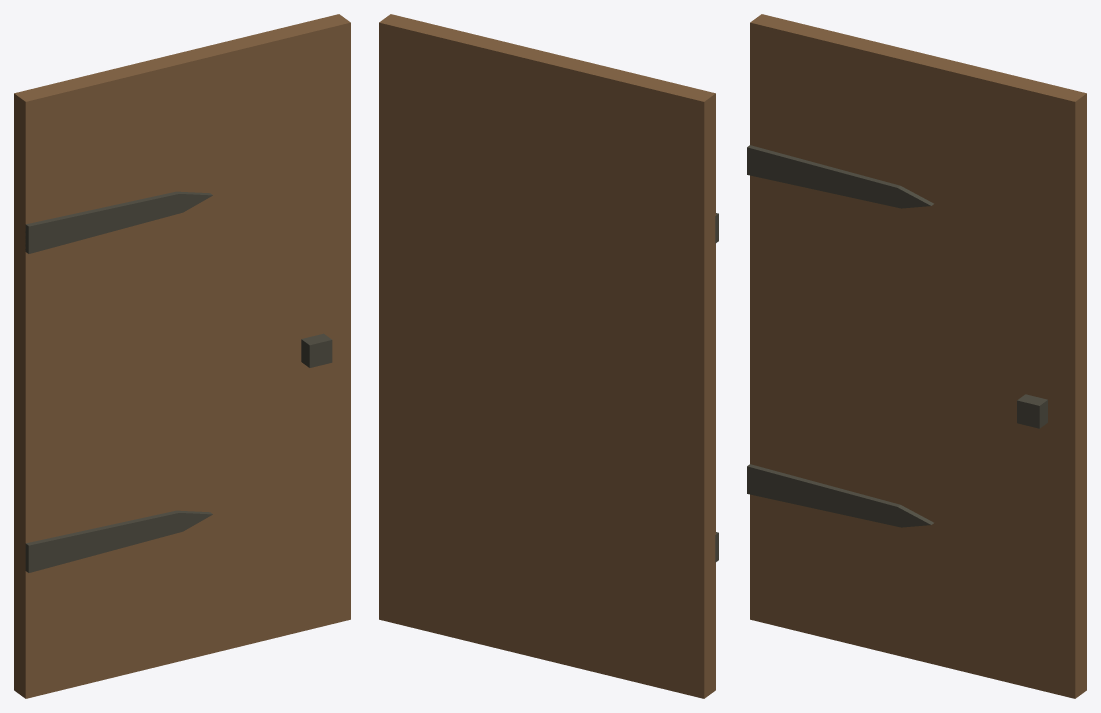
Rendered from swing_door.glb.
3 views of the same model, side by side, from view 1: azimuth 30°, elevation 25°; view 2: azimuth 150°, elevation 25°; view 3: azimuth 330°, elevation 25° (orthographic).
Parts seen in each view (by area): view 1: Swing door; view 2: Swing door; view 3: Swing door.
Part boxes in pixels (x1,y1,x2,y2): Swing door: [14, 14, 350, 698]; Swing door: [379, 14, 718, 698]; Swing door: [747, 14, 1086, 698].
Size of the model in its own units: 0.864 by 1.52 by 0.093.
